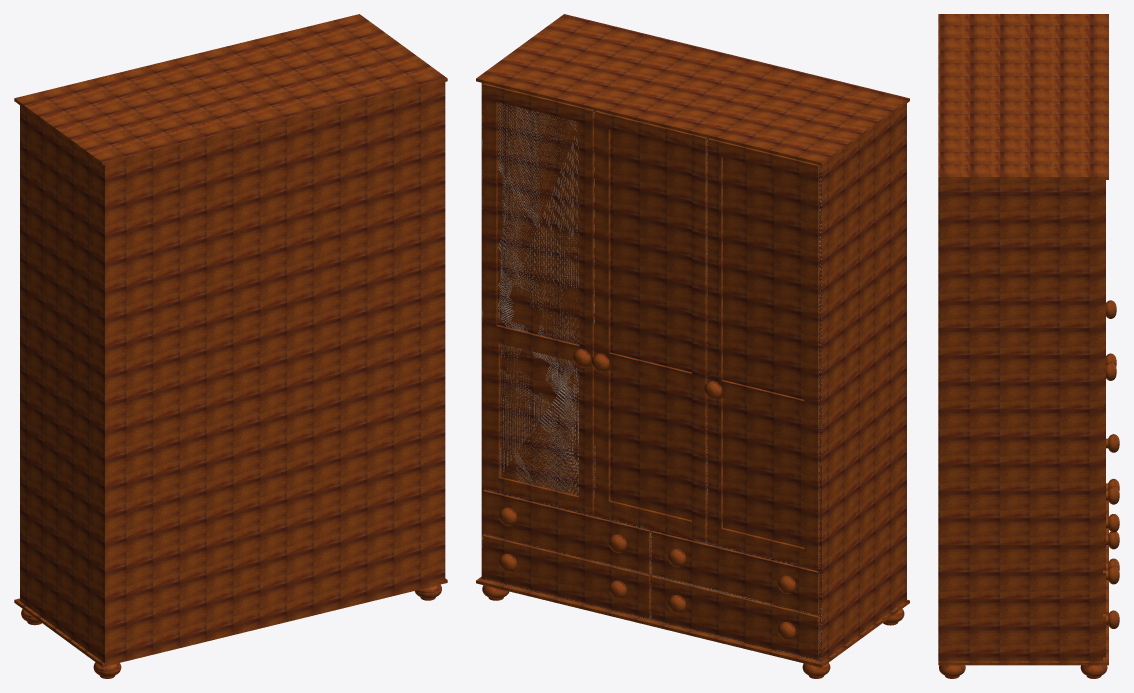
3 views of the same model, side by side, from view 1: azimuth 30°, elevation 25°; view 2: azimuth 150°, elevation 25°; view 3: azimuth 270°, elevation 25° (orthographic). The views are drawn at different scales.
Visible parts, largest first — view 1: mesh8_mesh8-geometry, mesh1_mesh1-geometry; view 2: mesh8_mesh8-geometry, mesh12_mesh12-geometry, mesh9_mesh9-geometry, mesh11_mesh11-geometry, mesh10_mesh10-geometry, mesh5_mesh5-geometry, mesh1_mesh1-geometry; view 3: mesh8_mesh8-geometry, mesh5_mesh5-geometry, mesh1_mesh1-geometry.
Part boxes in pixels (<box>): mesh8_mesh8-geometry: <box>14,14,447,666</box>; mesh1_mesh1-geometry: <box>21,584,441,678</box>; mesh8_mesh8-geometry: <box>476,14,909,667</box>; mesh12_mesh12-geometry: <box>651,576,819,659</box>; mesh9_mesh9-geometry: <box>482,490,650,573</box>; mesh11_mesh11-geometry: <box>651,531,819,614</box>; mesh10_mesh10-geometry: <box>482,534,650,618</box>; mesh5_mesh5-geometry: <box>499,349,795,640</box>; mesh1_mesh1-geometry: <box>482,585,904,678</box>; mesh8_mesh8-geometry: <box>938,14,1108,665</box>; mesh5_mesh5-geometry: <box>1106,300,1119,628</box>; mesh1_mesh1-geometry: <box>939,665,1107,678</box>.
Size of the model in its own units: 0.5506 by 0.7938 by 0.2583.
